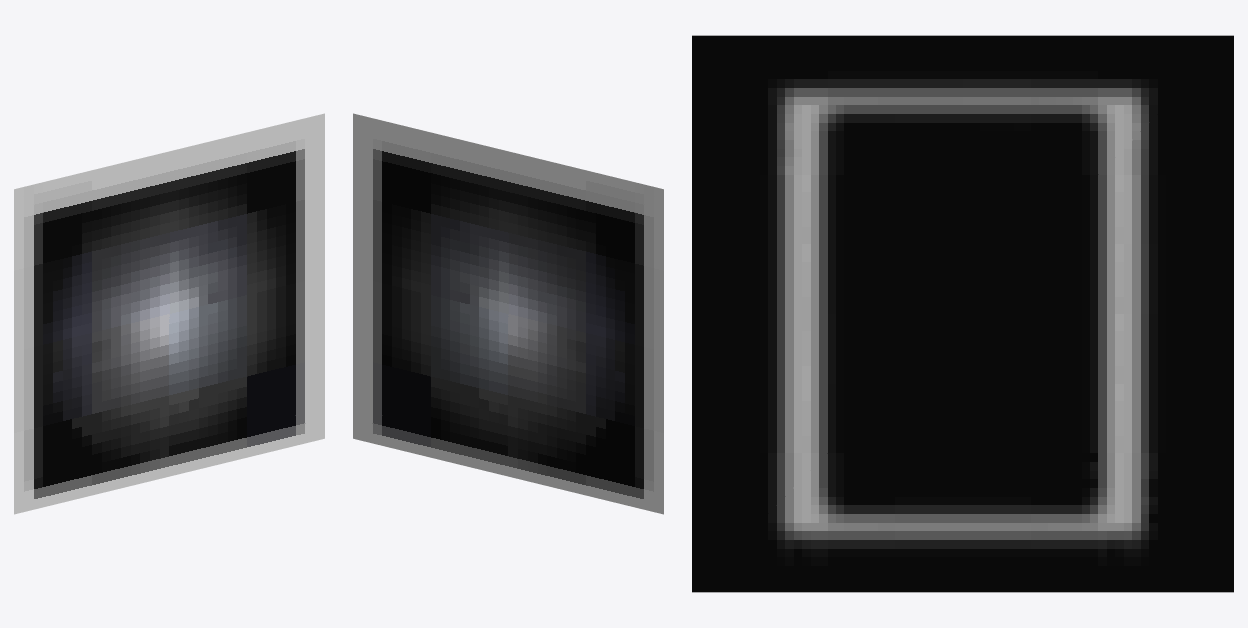
Rendered from SilverCard_open.fbx.
The picture shows the model from 3 angles, left to right: view 1: azimuth 30°, elevation 25°; view 2: azimuth 150°, elevation 25°; view 3: azimuth 270°, elevation 25°; orthographic projection. The views are drawn at different scales.
Parts seen in each view (by area): view 1: flare 23; view 2: flare 23; view 3: aaplane_2.
Part boxes in pixels (left/top/right/bottom): flare 23: left=14, top=113, right=324, bottom=514; flare 23: left=353, top=113, right=663, bottom=514; aaplane_2: left=692, top=35, right=1233, bottom=592.
Bounding box in the file's own units: 0.25 × 0.34 × 0.3.
Materials: 2 (2 with a texture image).
